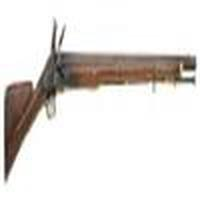gun: (5, 46, 196, 185)
